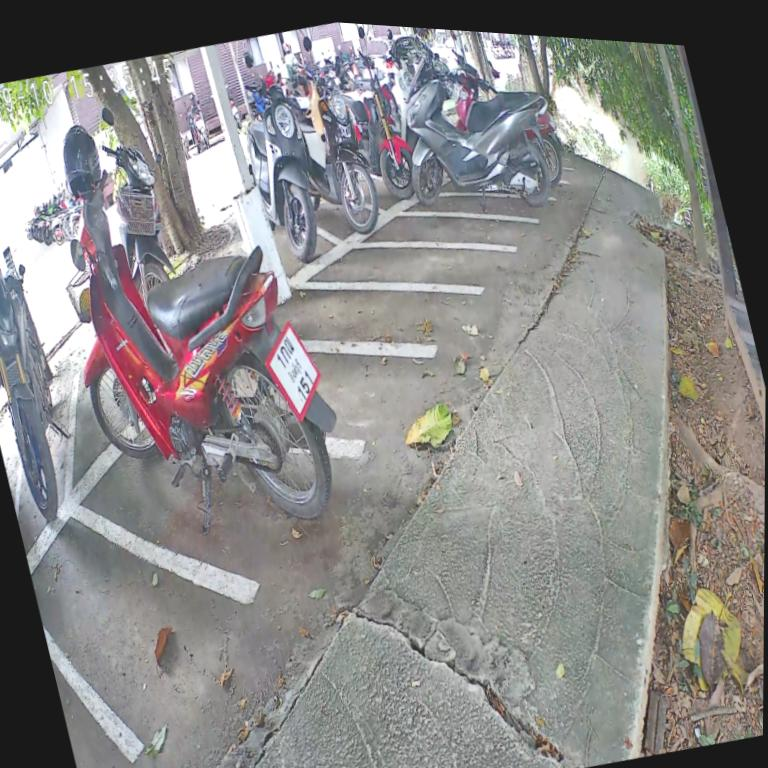license plate: (248, 307, 338, 441)
